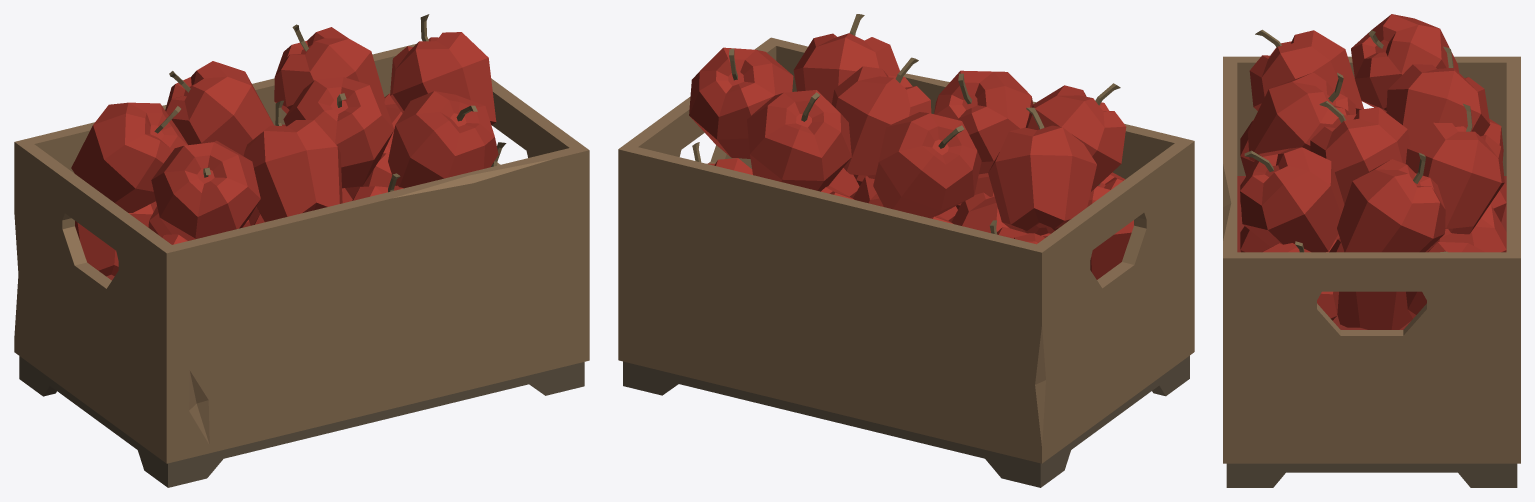
File: SM_Props_Farm_Crate_Filled_Apple.fbx
3 renders of one model, left to right at view 1: azimuth 30°, elevation 25°; view 2: azimuth 150°, elevation 25°; view 3: azimuth 270°, elevation 25°, orthographic. The views are drawn at different scales.
Parts seen in each view (by area): view 1: SM_Props_Farm_Crate_Filled_Apple; view 2: SM_Props_Farm_Crate_Filled_Apple; view 3: SM_Props_Farm_Crate_Filled_Apple.
Boxes of the visible parts, x1,y1,x2,y2 form: SM_Props_Farm_Crate_Filled_Apple: (14, 14, 589, 487); SM_Props_Farm_Crate_Filled_Apple: (618, 14, 1194, 487); SM_Props_Farm_Crate_Filled_Apple: (1223, 14, 1520, 487).
Size of the model in its own units: 101 by 71.66 by 63.
